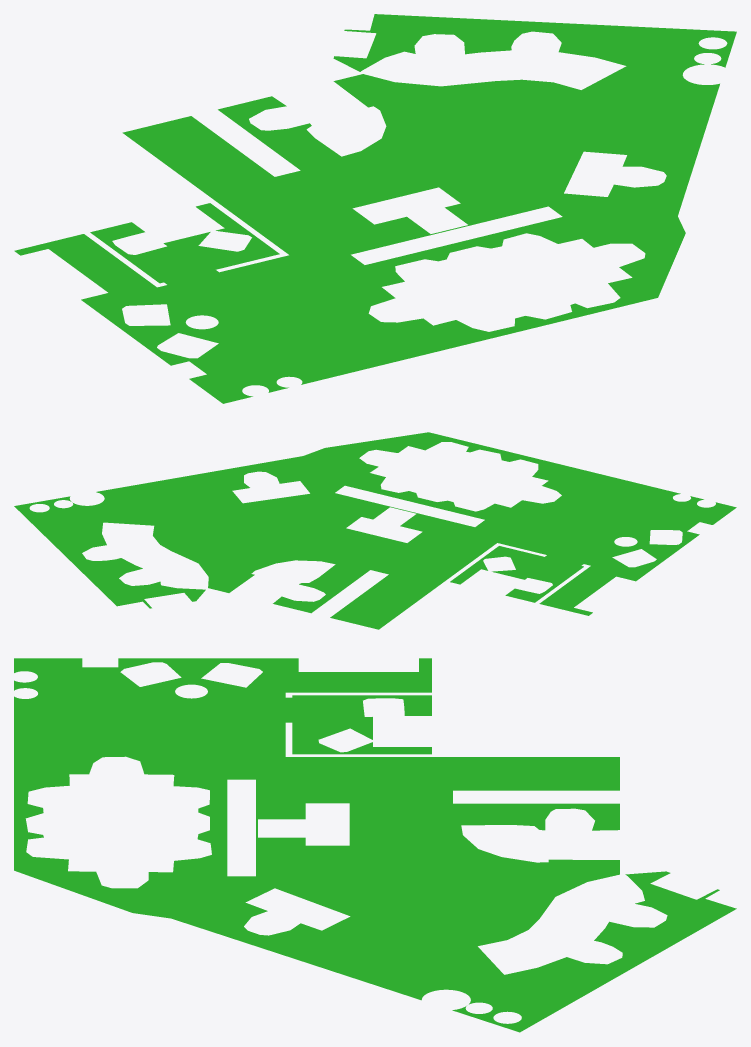
The model's file is navmesh_office.gltf.
3 renders of one model, top to bottom at view 1: azimuth 30°, elevation 25°; view 2: azimuth 150°, elevation 25°; view 3: azimuth 270°, elevation 25°, orthographic. The views are drawn at different scales.
Parts seen in each view (by area): view 1: navmap; view 2: navmap; view 3: navmap.
Part boxes in pixels (x1=…): navmap: x1=14, y1=14, x2=736, y2=403; navmap: x1=14, y1=432, x2=736, y2=629; navmap: x1=14, y1=658, x2=736, y2=1032.
Bounding box in the file's own units: 12.83 × 3.53e-06 × 10.48.
